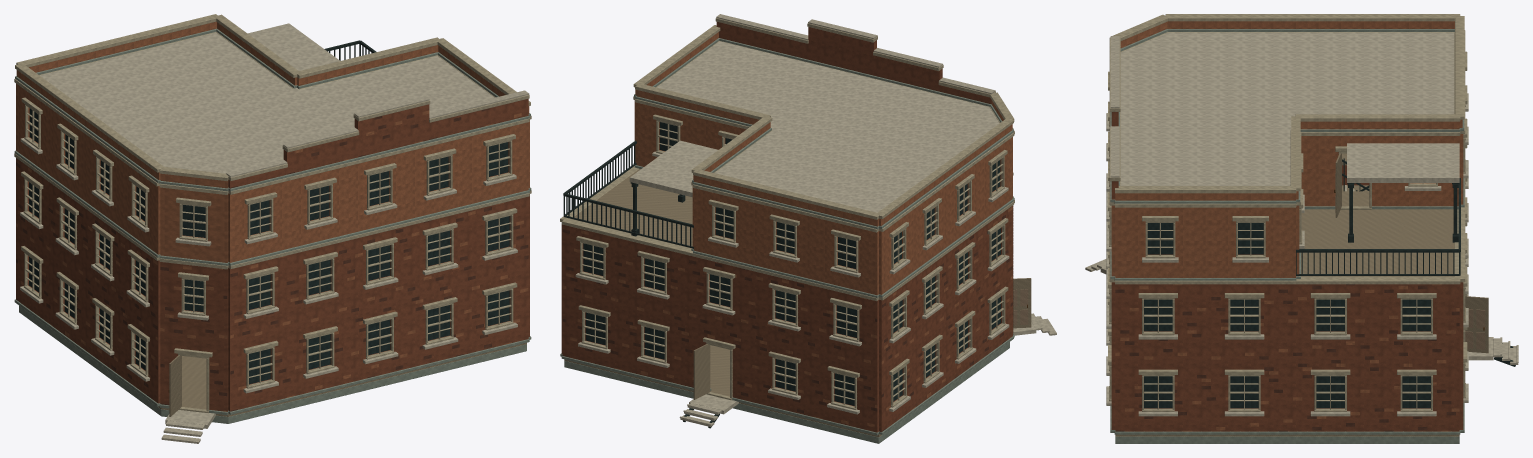
3 views of the same model, side by side, from view 1: azimuth 30°, elevation 25°; view 2: azimuth 150°, elevation 25°; view 3: azimuth 270°, elevation 25° (orthographic). The views are drawn at different scales.
Visible parts, largest first — view 1: A011-13_02_Masonry_Facing, A011-13_01_Wall_Shell, A011-13_11_Roof_L_Shaped, A011-13_04_Architectural_Trim, A011-13_03_Window_Door_Frames, A011-13_06_Glazing, A011-13_00_Foundation, A011-13_07_Floors, A011-13_11_Roof_Loggia_Canopy, A011-13_04_Stepped_Coping, A011-13_05_Door_Leaf_01, A011-13_08_Stairs; view 2: A011-13_01_Wall_Shell, A011-13_02_Masonry_Facing, A011-13_11_Roof_L_Shaped, A011-13_04_Architectural_Trim, A011-13_03_Window_Door_Frames, A011-13_06_Glazing, A011-13_07_Floors, A011-13_09_Railings, A011-13_00_Foundation, A011-13_11_Roof_Loggia_Canopy, A011-13_04_Stepped_Coping, A011-13_05_Door_Leaf_01 (+2 smaller); view 3: A011-13_11_Roof_L_Shaped, A011-13_02_Masonry_Facing, A011-13_01_Wall_Shell, A011-13_04_Architectural_Trim, A011-13_07_Floors, A011-13_06_Glazing, A011-13_03_Window_Door_Frames, A011-13_11_Roof_Loggia_Canopy, A011-13_00_Foundation, A011-13_09_Railings, A011-13_05_Door_Leaf_00, A011-13_04_Stepped_Coping (+2 smaller).
Part boxes in pixels (x1=…): A011-13_02_Masonry_Facing: x1=16, y1=98, x2=528, y2=411; A011-13_01_Wall_Shell: x1=16, y1=21, x2=529, y2=411; A011-13_11_Roof_L_Shaped: x1=40, y1=32, x2=494, y2=173; A011-13_04_Architectural_Trim: x1=14, y1=14, x2=531, y2=414; A011-13_03_Window_Door_Frames: x1=23, y1=104, x2=513, y2=413; A011-13_06_Glazing: x1=29, y1=108, x2=509, y2=384; A011-13_00_Foundation: x1=19, y1=305, x2=526, y2=423; A011-13_07_Floors: x1=158, y1=205, x2=526, y2=428; A011-13_11_Roof_Loggia_Canopy: x1=247, y1=23, x2=339, y2=70; A011-13_04_Stepped_Coping: x1=226, y1=90, x2=529, y2=177; A011-13_05_Door_Leaf_01: x1=168, y1=355, x2=181, y2=416; A011-13_08_Stairs: x1=161, y1=420, x2=204, y2=443; A011-13_01_Wall_Shell: x1=561, y1=22, x2=1012, y2=432; A011-13_02_Masonry_Facing: x1=562, y1=205, x2=1013, y2=432; A011-13_11_Roof_L_Shaped: x1=657, y1=41, x2=999, y2=212; A011-13_04_Architectural_Trim: x1=560, y1=18, x2=1014, y2=435; A011-13_03_Window_Door_Frames: x1=579, y1=120, x2=1005, y2=409; A011-13_06_Glazing: x1=583, y1=122, x2=1000, y2=405; A011-13_07_Floors: x1=564, y1=169, x2=1036, y2=437; A011-13_09_Railings: x1=563, y1=140, x2=693, y2=248; A011-13_00_Foundation: x1=564, y1=342, x2=1009, y2=443; A011-13_11_Roof_Loggia_Canopy: x1=629, y1=140, x2=717, y2=197; A011-13_04_Stepped_Coping: x1=716, y1=14, x2=995, y2=94; A011-13_05_Door_Leaf_01: x1=1013, y1=278, x2=1031, y2=328; A011-13_11_Roof_L_Shaped: x1=1120, y1=32, x2=1454, y2=185; A011-13_02_Masonry_Facing: x1=1115, y1=284, x2=1459, y2=431; A011-13_01_Wall_Shell: x1=1111, y1=21, x2=1463, y2=431; A011-13_04_Architectural_Trim: x1=1106, y1=14, x2=1468, y2=434; A011-13_07_Floors: x1=1100, y1=153, x2=1493, y2=436; A011-13_06_Glazing: x1=1144, y1=223, x2=1430, y2=408; A011-13_03_Window_Door_Frames: x1=1109, y1=104, x2=1465, y2=411; A011-13_11_Roof_Loggia_Canopy: x1=1347, y1=143, x2=1459, y2=182; A011-13_00_Foundation: x1=1115, y1=436, x2=1459, y2=443; A011-13_09_Railings: x1=1296, y1=158, x2=1460, y2=275; A011-13_05_Door_Leaf_00: x1=1465, y1=296, x2=1488, y2=353; A011-13_04_Stepped_Coping: x1=1110, y1=36, x2=1119, y2=177.
Size of the model in its own units: 15.76 by 11.27 by 15.33.
Materials: 11 (11 with a texture image).
